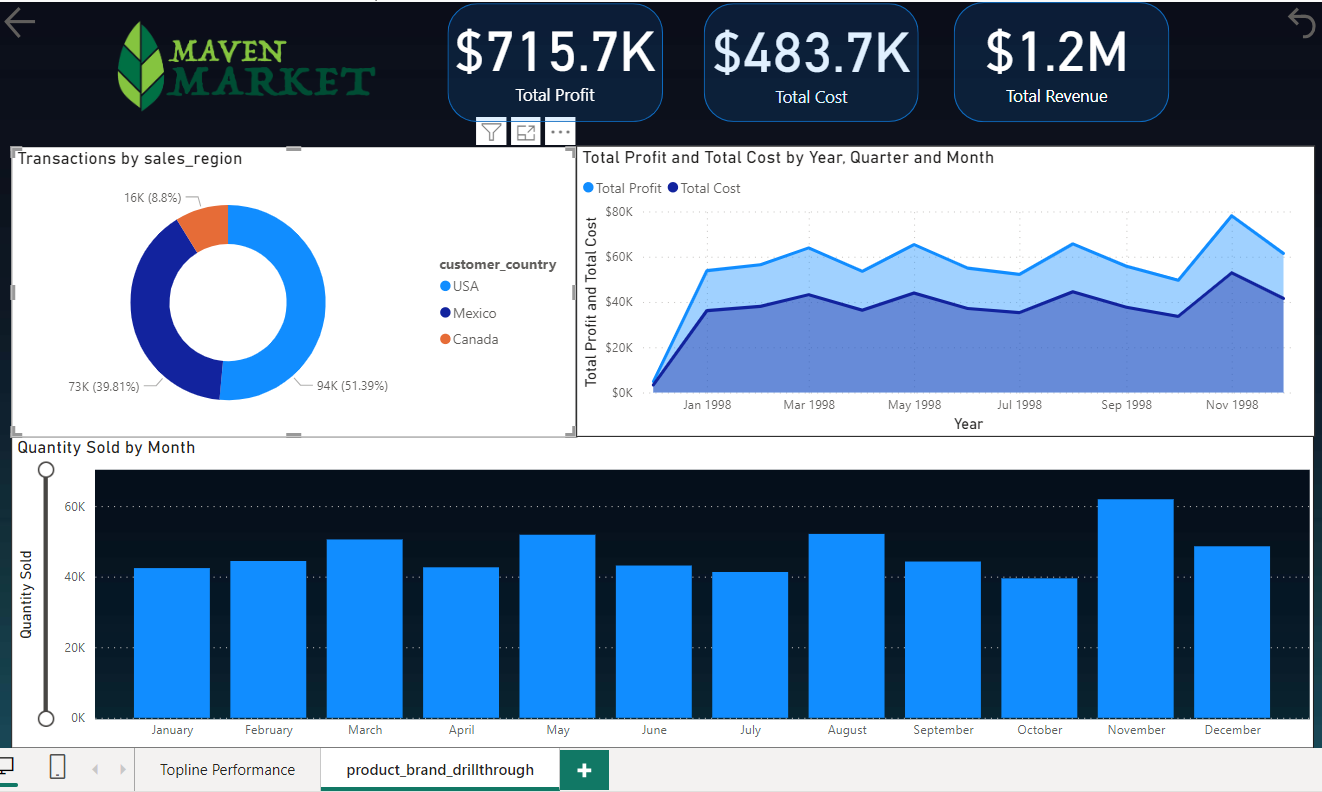

The dashboard page shown, as its layout file describes it:
{"tool":"powerbi","page":{"name":"product_brand_drillthrough","canvas":[1280,720],"ordinal":1},"visuals":[{"type":"actionButton","box":[0,0,44.6,39.8],"z":0},{"type":"clusteredColumnChart","fields":{"Y":["Transaction_Data.Quantity Sold"],"Category":["Calendar.Start of the week.Variation.Date Hierarchy.Year","Calendar.Start of the week.Variation.Date Hierarchy.Quarter","Calendar.Start of the week.Variation.Date Hierarchy.Month","Calendar.Start of the week.Variation.Date Hierarchy.Day"]},"box":[10.9,418.5,1256.7,301.5],"z":1000},{"type":"donutChart","title":"Transactions by sales_region","fields":{"Category":["Regions.sales_region"],"Y":["Transaction_Data.Total Transactions"]},"box":[10.9,139.9,545.1,279.8],"z":2000},{"type":"image","box":[64,6.7,345.3,109.3],"z":3000},{"type":"shape","box":[432,1.3,208,114.7],"z":4000},{"type":"card","fields":{"Values":["Products.Total Profit"]},"box":[432,0,208,102.7],"z":5000},{"type":"card","fields":{"Values":["Products.Total Cost"]},"box":[678.7,1.3,208,102.7],"z":6000},{"type":"shape","box":[920,0,208,116],"z":7000},{"type":"shape","box":[679,1.2,207.4,114.6],"z":8000},{"type":"card","fields":{"Values":["Products.Total Revenue"]},"box":[912,0,216,104],"z":9000},{"type":"actionButton","box":[1236,0,44,40],"z":10000},{"type":"areaChart","fields":{"Y":["Products.Total Profit","Products.Total Cost"],"Category":["Calendar.Start of the week.Variation.Date Hierarchy.Year","Calendar.Start of the week.Variation.Date Hierarchy.Quarter","Calendar.Start of the week.Variation.Date Hierarchy.Month","Calendar.Start of the week.Variation.Date Hierarchy.Day"]},"box":[556,138.7,712.8,281],"z":11000}]}

Visuals, with their boxes on the page's 1280x720 design canvas (x1, y1, x2, y2). These are canvas units, not pixel positions in the 1322x792 screenshot, which may show the page scaled, cropped or inside an application window:
actionButton: 0,0,45,40
clusteredColumnChart - Transaction_Data.Quantity Sold x Calendar.Start of the week.Variation.Date Hierarchy.Year: 11,418,1268,720
"Transactions by sales_region" donutChart: 11,140,556,420
image: 64,7,409,116
shape: 432,1,640,116
card - Products.Total Profit: 432,0,640,103
card - Products.Total Cost: 679,1,887,104
shape: 920,0,1128,116
shape: 679,1,886,116
card - Products.Total Revenue: 912,0,1128,104
actionButton: 1236,0,1280,40
areaChart - Products.Total Profit x Products.Total Cost: 556,139,1269,420
